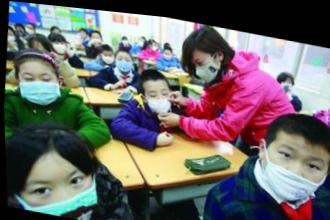OK: (21, 157, 98, 220), (18, 64, 61, 108), (191, 47, 221, 82), (141, 82, 174, 113), (116, 53, 133, 72), (53, 38, 66, 55), (103, 49, 116, 64), (281, 72, 293, 86), (7, 31, 16, 44), (26, 24, 34, 35), (163, 48, 172, 57)
WRONG: (264, 129, 326, 201)
